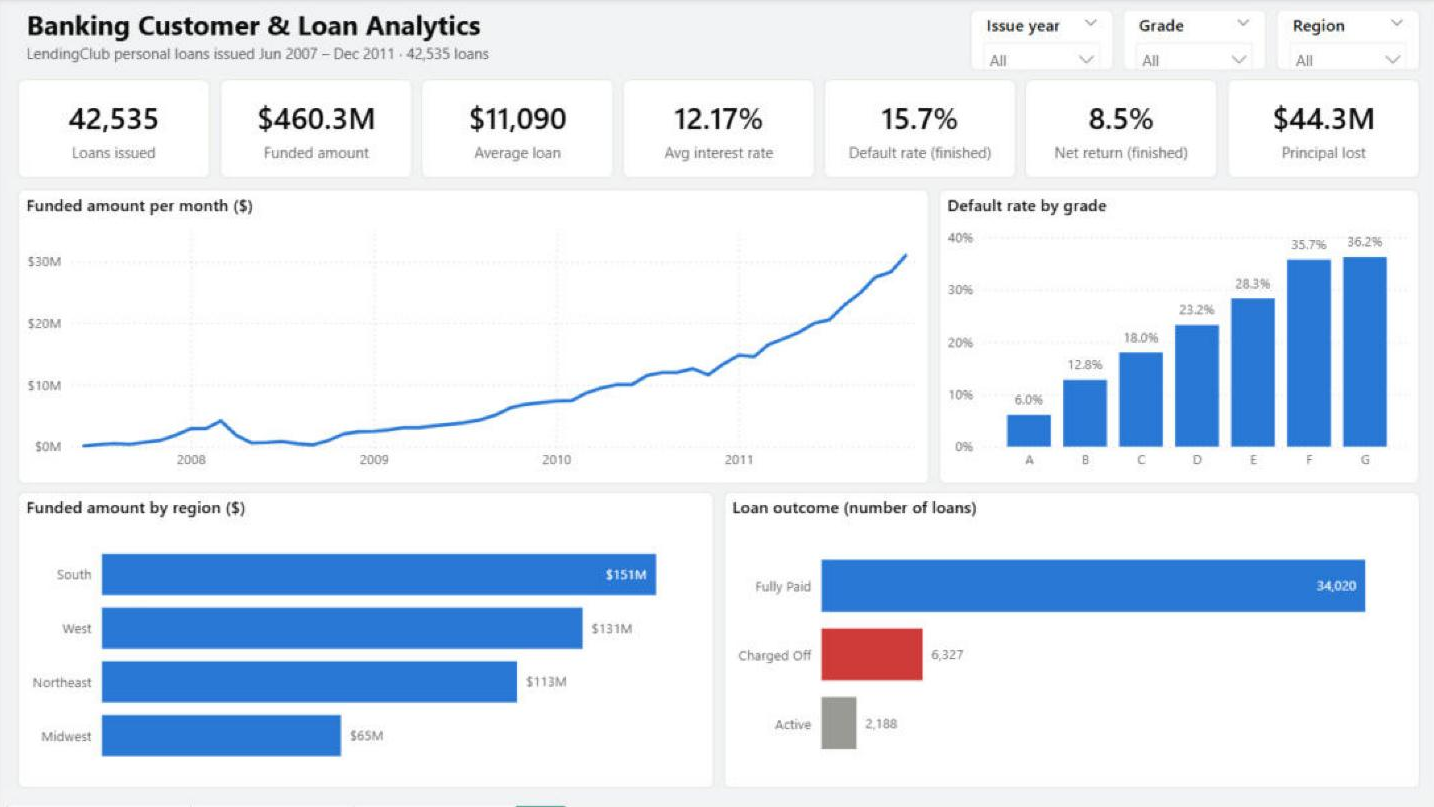

The page's visual inventory and layout, read from the dashboard file:
{"tool":"powerbi","page":{"name":"Executive Overview","canvas":[1280,720],"ordinal":0},"visuals":[{"type":"textbox","box":[16,8,840,56],"z":1000},{"type":"slicer","fields":{"Values":["Date.Year"]},"box":[864,10,128,54],"z":2000},{"type":"slicer","fields":{"Values":["loans.grade"]},"box":[1000,10,128,54],"z":3000},{"type":"slicer","fields":{"Values":["dim_state.region"]},"box":[1136,10,128,54],"z":4000},{"type":"card","fields":{"Values":["_Measures.Loans"]},"box":[16,72,171.4,88],"z":5000},{"type":"card","fields":{"Values":["_Measures.Funded Amount"]},"box":[195.4,72,171.4,88],"z":6000},{"type":"card","fields":{"Values":["_Measures.Average Loan"]},"box":[374.9,72,171.4,88],"z":7000},{"type":"card","fields":{"Values":["_Measures.Average Interest Rate"]},"box":[554.3,72,171.4,88],"z":8000},{"type":"card","fields":{"Values":["_Measures.Default Rate %"]},"box":[733.7,72,171.4,88],"z":9000},{"type":"card","fields":{"Values":["_Measures.Net Return %"]},"box":[913.1,72,171.4,88],"z":10000},{"type":"card","fields":{"Values":["_Measures.Principal Lost"]},"box":[1092.6,72,171.4,88],"z":11000},{"type":"lineChart","title":"Funded amount per month ($)","fields":{"Category":["Date.Month Start"],"Y":["_Measures.Funded Amount"]},"box":[16,170,812,262],"z":12000},{"type":"clusteredColumnChart","title":"Default rate by grade","fields":{"Category":["loans.grade"],"Y":["_Measures.Default Rate %"]},"box":[836,170,428,262],"z":13000},{"type":"clusteredBarChart","title":"Funded amount by region ($)","fields":{"Category":["dim_state.region"],"Y":["_Measures.Funded Amount"]},"box":[16,440,620,264],"z":14000},{"type":"clusteredBarChart","title":"Loan outcome (number of loans)","fields":{"Category":["loans.outcome"],"Y":["_Measures.Loans"]},"box":[644,440,620,264],"z":15000}]}

Visuals, with their boxes in screenshot pixels (x1, y1, x2, y2), scaled from the page's 1280x720 canvas onto the 1434x807 screenshot:
textbox: 18 9 959 72
slicer - Date.Year: 968 11 1111 72
slicer - loans.grade: 1120 11 1264 72
slicer - dim_state.region: 1273 11 1416 72
card - _Measures.Loans: 18 81 210 179
card - _Measures.Funded Amount: 219 81 411 179
card - _Measures.Average Loan: 420 81 612 179
card - _Measures.Average Interest Rate: 621 81 813 179
card - _Measures.Default Rate %: 822 81 1014 179
card - _Measures.Net Return %: 1023 81 1215 179
card - _Measures.Principal Lost: 1224 81 1416 179
"Funded amount per month ($)" lineChart: 18 191 928 484
"Default rate by grade" clusteredColumnChart: 937 191 1416 484
"Funded amount by region ($)" clusteredBarChart: 18 493 713 789
"Loan outcome (number of loans)" clusteredBarChart: 721 493 1416 789
